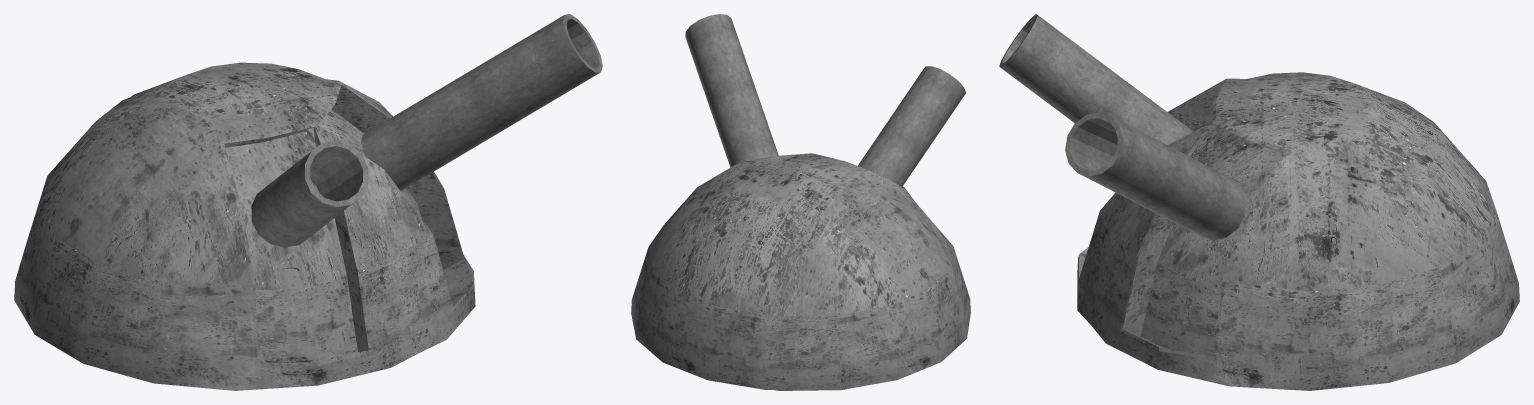
The model's file is Canhao2Pontas_Mapa06.FBX.
3 renders of one model, left to right at view 1: azimuth 30°, elevation 25°; view 2: azimuth 150°, elevation 25°; view 3: azimuth 270°, elevation 25°, orthographic. The views are drawn at different scales.
Visible parts, largest first — view 1: Sphere002, Cylinder005, Cylinder004; view 2: Sphere002, Cylinder005, Cylinder004; view 3: Sphere002, Cylinder005, Cylinder004.
Boxes of the visible parts, x1,y1,x2,y2 form: Sphere002: [14, 62, 475, 390]; Cylinder005: [361, 14, 602, 190]; Cylinder004: [251, 140, 368, 247]; Sphere002: [631, 153, 970, 390]; Cylinder005: [685, 14, 778, 167]; Cylinder004: [858, 66, 965, 185]; Sphere002: [1077, 72, 1519, 390]; Cylinder005: [1065, 112, 1246, 240]; Cylinder004: [999, 14, 1193, 144].
Bounding box in the file's own units: 137 × 84.25 × 140.
